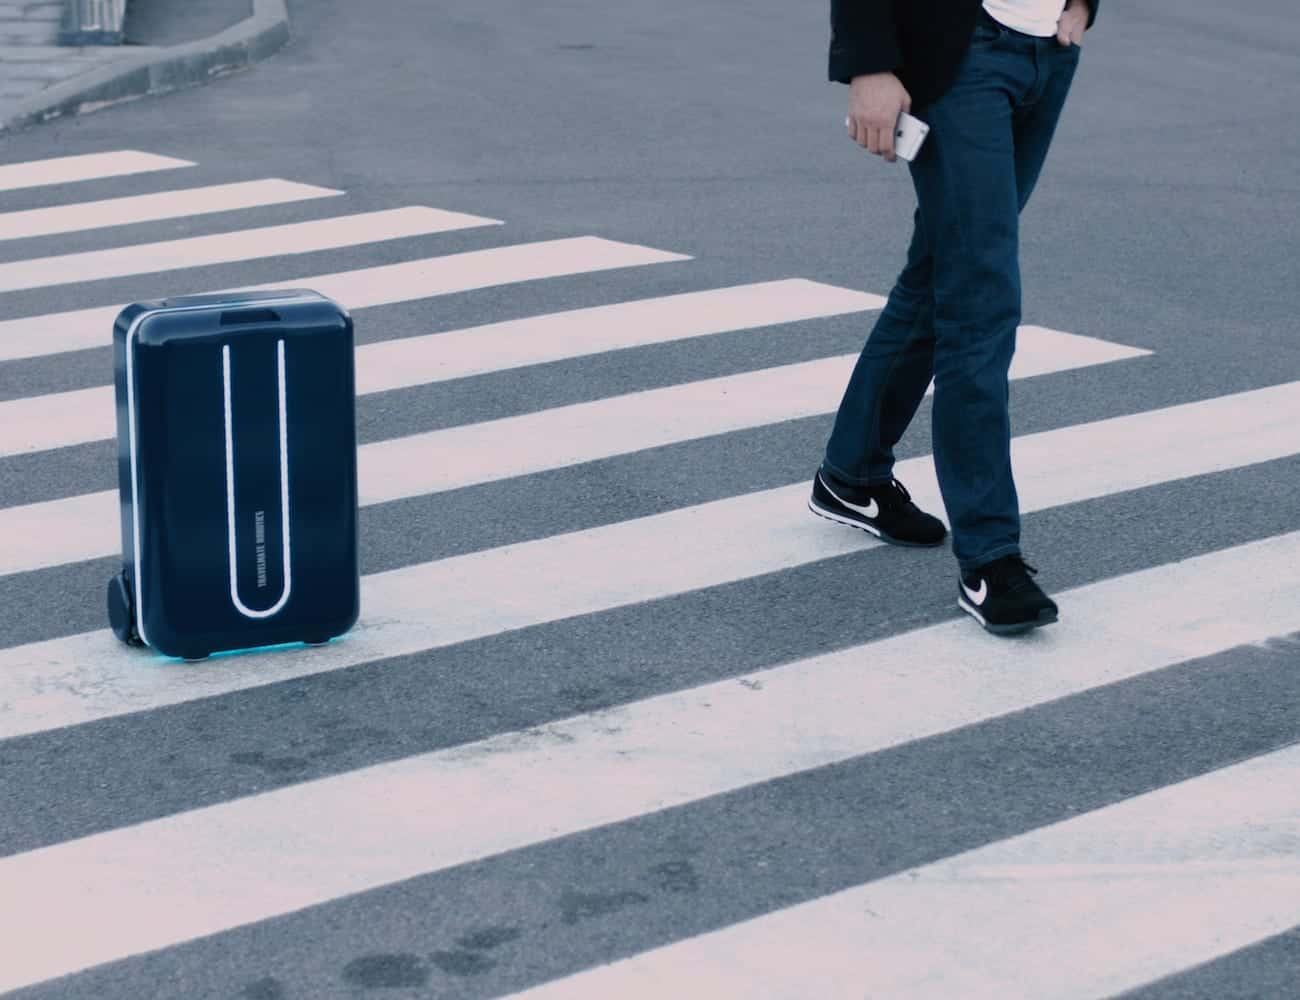luggage: (82, 278, 385, 675)
mobile phone: (839, 96, 935, 165)
